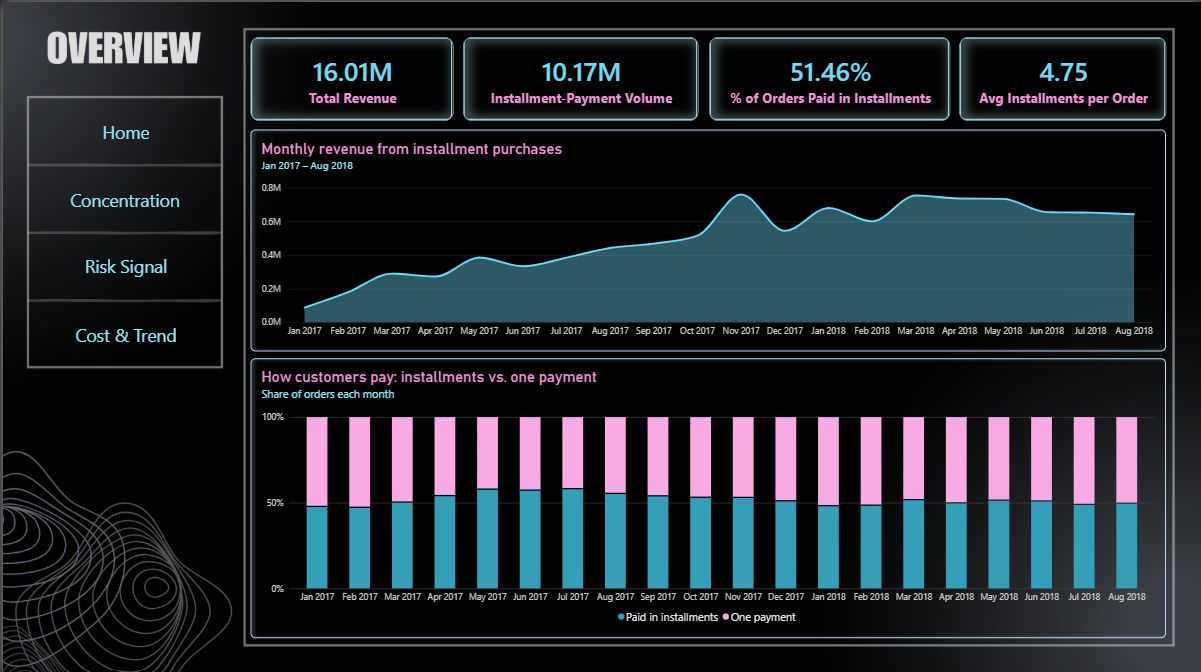

What the dashboard file says about the page in this screenshot:
{"tool":"powerbi","page":{"name":"Overview","canvas":[1920,1080],"ordinal":1},"visuals":[{"type":"cardVisual","fields":{"Data":["public fact_orders.Pct Orders Financed"]},"box":[1129.7,56.3,385.2,134.2],"z":0},{"type":"cardVisual","fields":{"Data":["public fact_orders.Avg Installments Financed"]},"box":[1530,56.3,331.1,134.2],"z":1000},{"type":"cardVisual","fields":{"Data":["public fact_orders.Total Revenue"]},"box":[396,56.3,324.6,134.2],"z":2000},{"type":"cardVisual","fields":{"Data":["public fact_orders.Financed Revenue"]},"box":[735.8,56.3,376.6,134.2],"z":3000},{"type":"lineChart","title":"Monthly revenue from installment purchases","fields":{"Category":["public dim_date.month_year_label"],"Y":["public fact_orders.Financed Revenue"]},"box":[396,203.4,1465.1,354.9],"z":4000},{"type":"hundredPercentStackedColumnChart","title":"How customers pay: installments vs. one payment","fields":{"Category":["public dim_date.month_year_label"],"Y":["public fact_orders.Count Financed","public fact_orders.Count Not Financed"]},"box":[396,569.2,1465.1,448],"z":5000},{"type":"actionButton","box":[41.1,153.7,309.5,110.4],"z":6000},{"type":"actionButton","box":[40,262.5,310,110],"z":7000},{"type":"actionButton","box":[41.1,367.9,309.5,110.4],"z":8000},{"type":"actionButton","box":[41.1,478.3,309.5,110.4],"z":9000}]}

Visuals, with their boxes in screenshot pixels (x1, y1, x2, y2), scaled from the page's 1920x1080 canvas onto the 1201x672 screenshot:
cardVisual - public fact_orders.Pct Orders Financed: (707,35,948,119)
cardVisual - public fact_orders.Avg Installments Financed: (957,35,1164,119)
cardVisual - public fact_orders.Total Revenue: (248,35,451,119)
cardVisual - public fact_orders.Financed Revenue: (460,35,696,119)
"Monthly revenue from installment purchases" lineChart: (248,127,1164,347)
"How customers pay: installments vs. one payment" hundredPercentStackedColumnChart: (248,354,1164,633)
actionButton: (26,96,219,164)
actionButton: (25,163,219,232)
actionButton: (26,229,219,298)
actionButton: (26,298,219,366)
